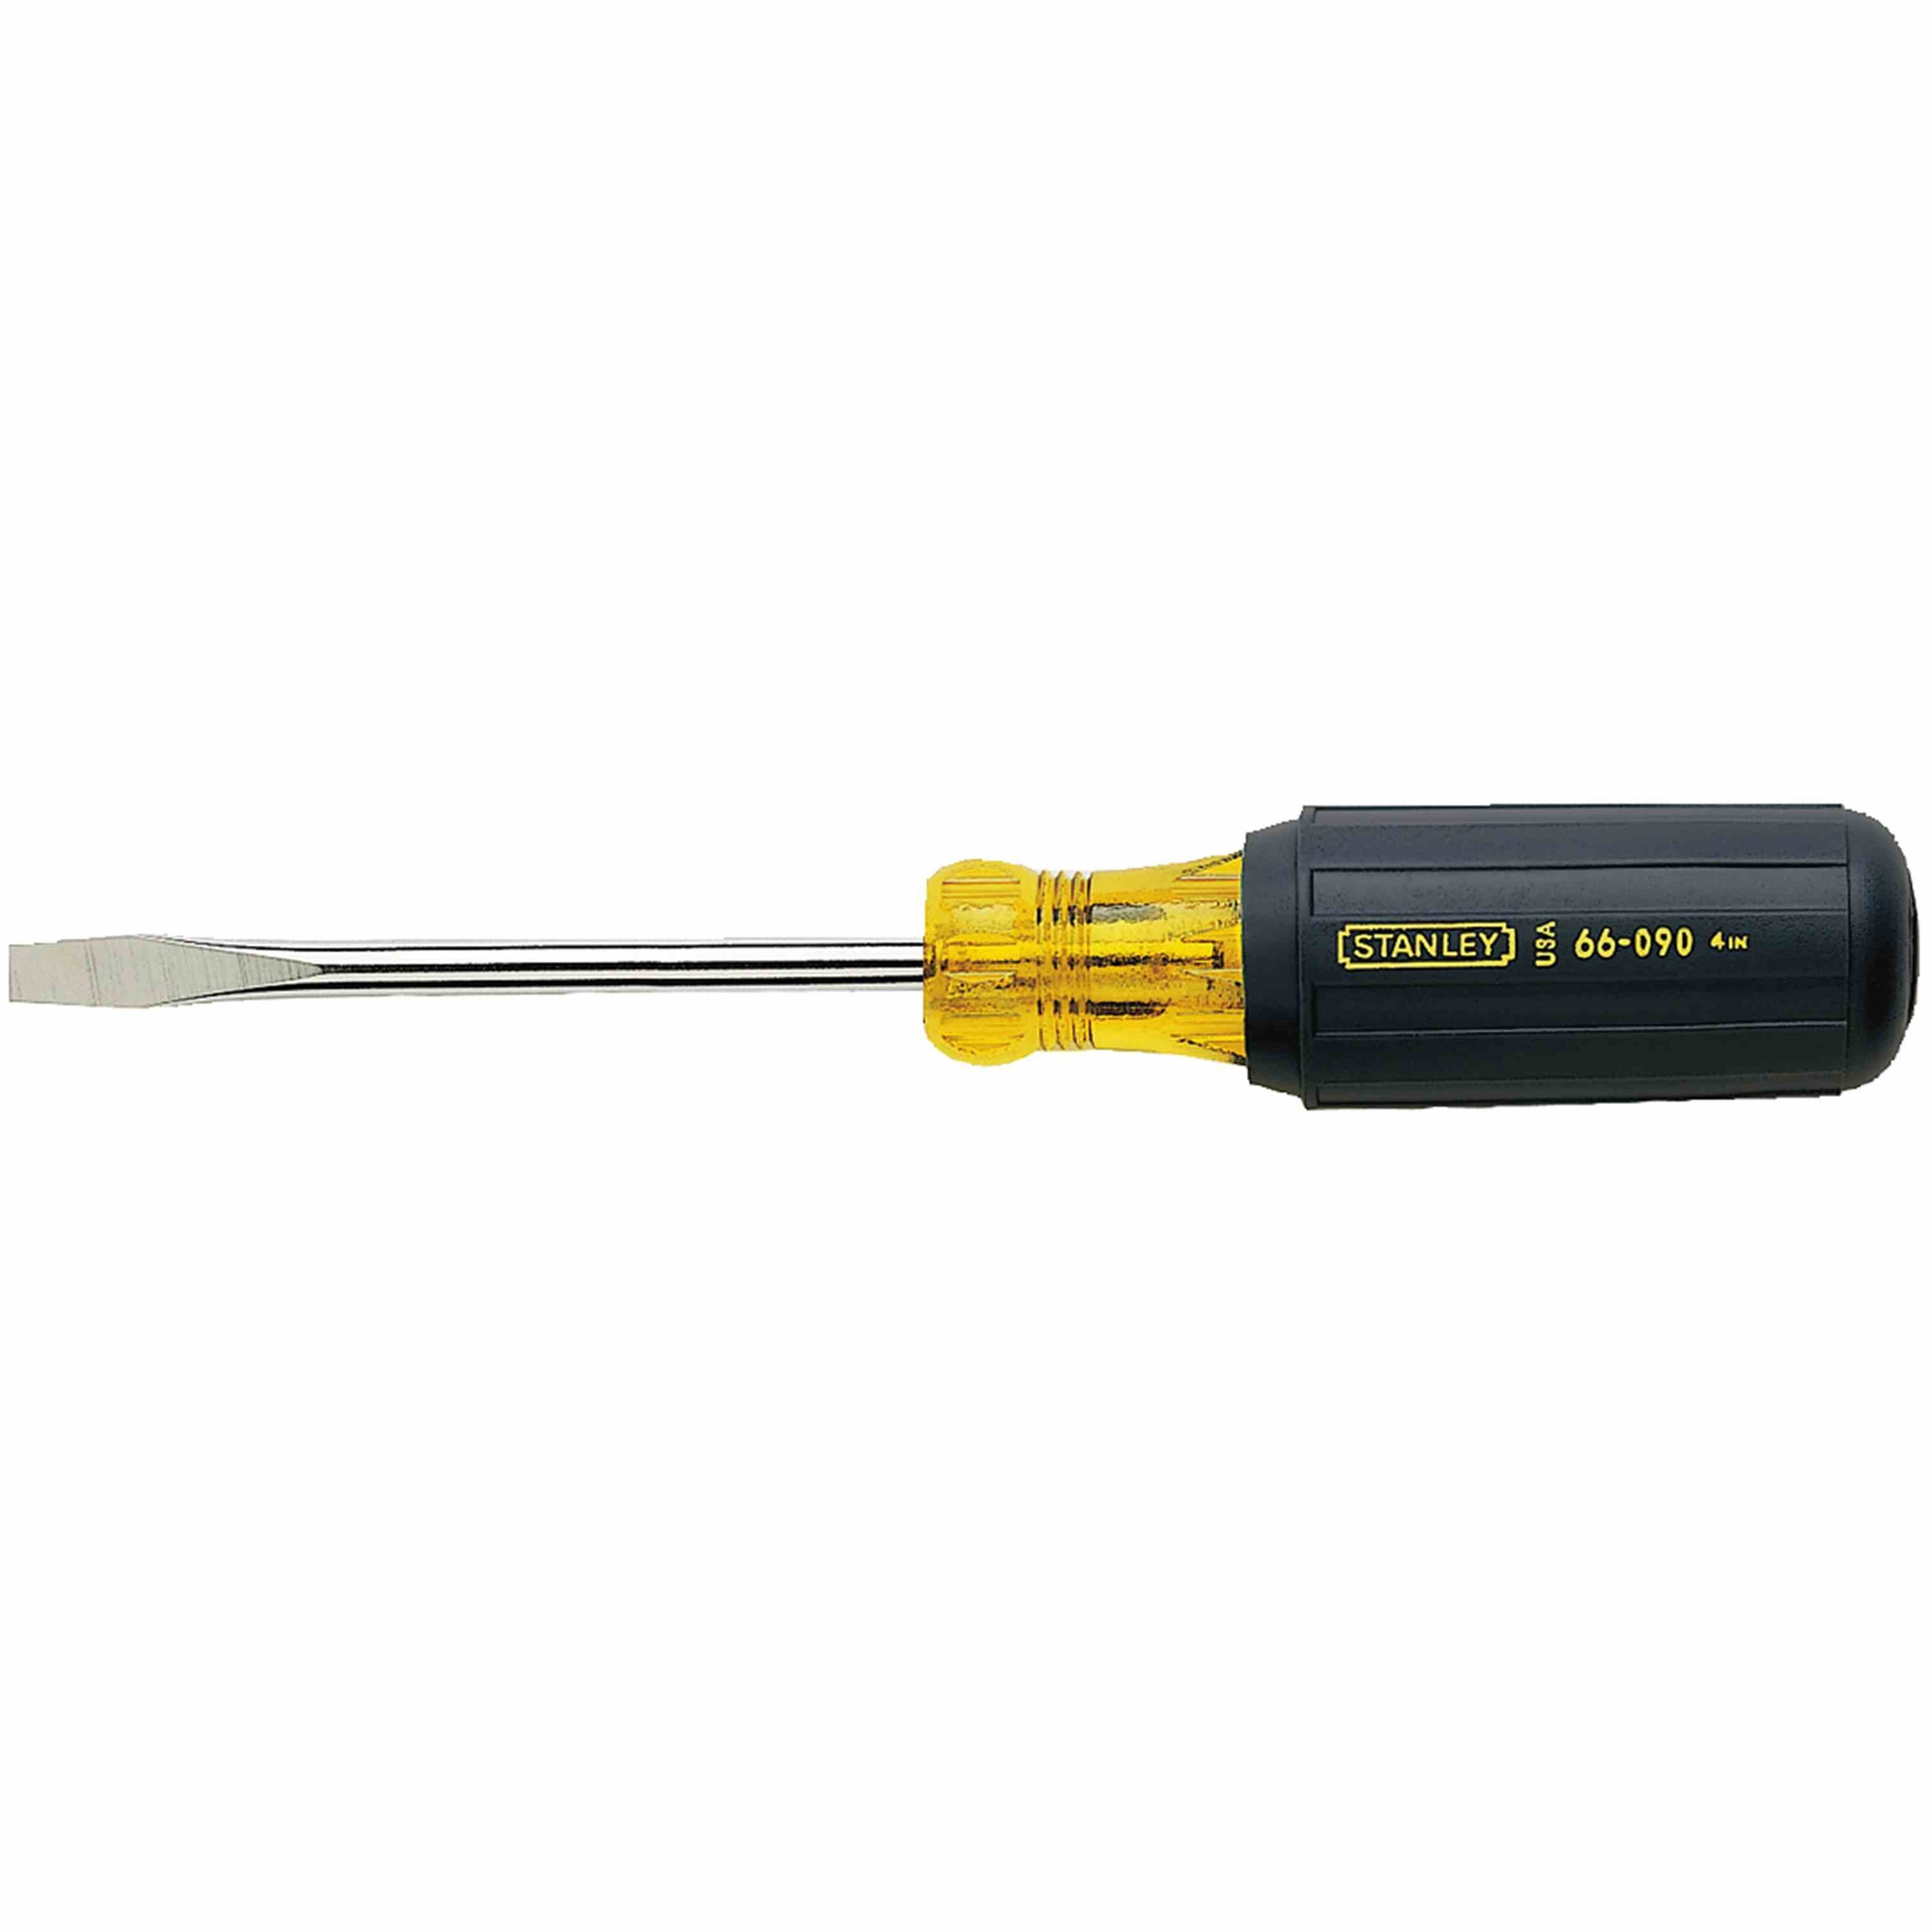screwdriver: (5, 782, 1932, 1115)
